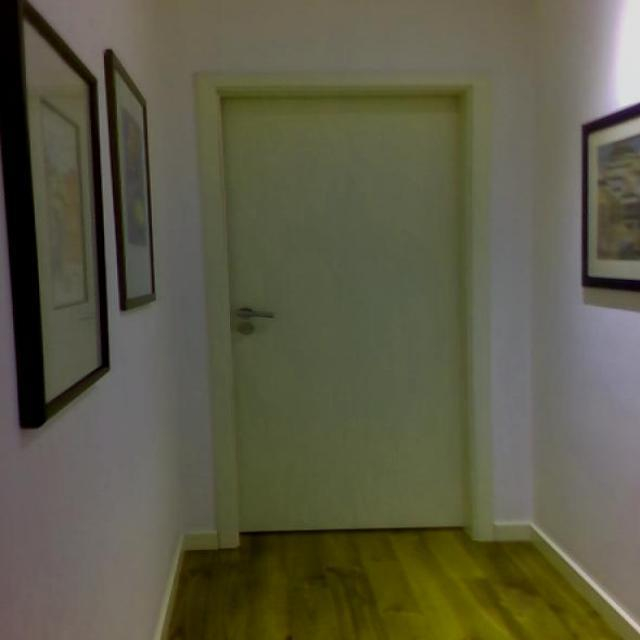door: (217, 82, 470, 534)
